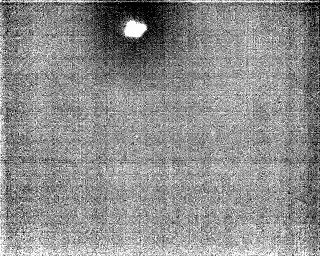AIRPLANE: (119, 15, 150, 42)
